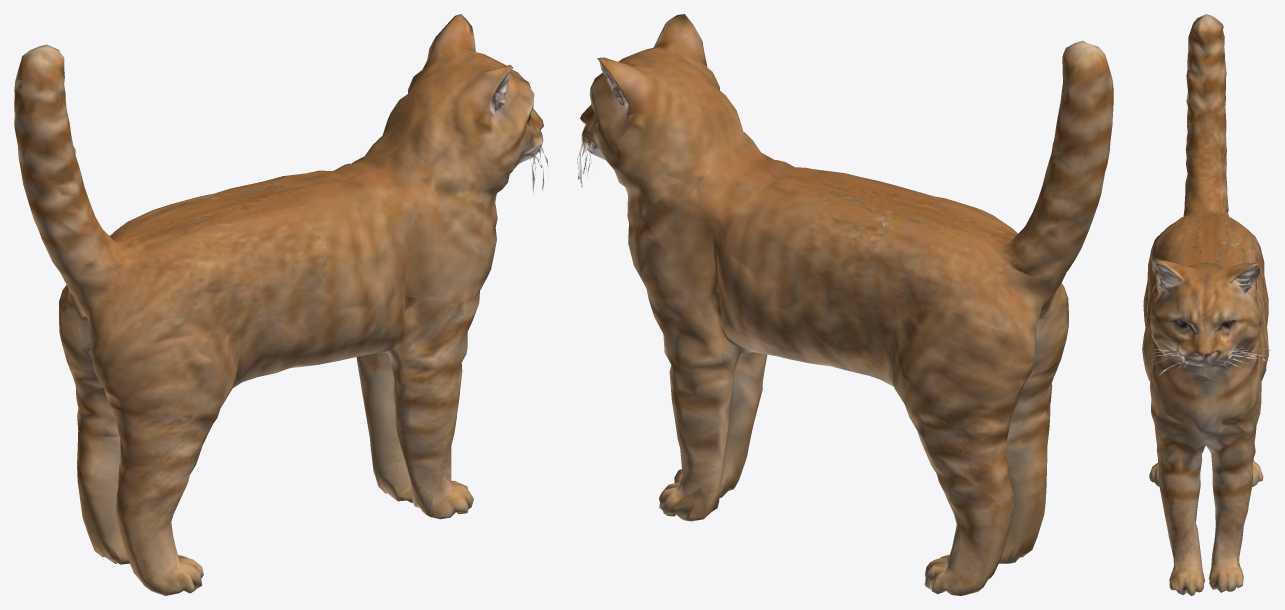
Rendered from KONPEIMISO-lo.glb.
3 renders of one model, left to right at view 1: azimuth 30°, elevation 25°; view 2: azimuth 150°, elevation 25°; view 3: azimuth 270°, elevation 25°, orthographic. The views are drawn at different scales.
Visible parts, largest first — view 1: tripo_node_40955ee7-b657-437b-8bb6-0acfc1943f80; view 2: tripo_node_40955ee7-b657-437b-8bb6-0acfc1943f80; view 3: tripo_node_40955ee7-b657-437b-8bb6-0acfc1943f80.
Boxes of the visible parts, x1,y1,x2,y2 form: tripo_node_40955ee7-b657-437b-8bb6-0acfc1943f80: (14, 14, 548, 595); tripo_node_40955ee7-b657-437b-8bb6-0acfc1943f80: (577, 14, 1113, 595); tripo_node_40955ee7-b657-437b-8bb6-0acfc1943f80: (1142, 14, 1270, 595).
Size of the model in its own units: 0.9917 by 0.9974 by 0.2738.
1 material, 1 textured.
